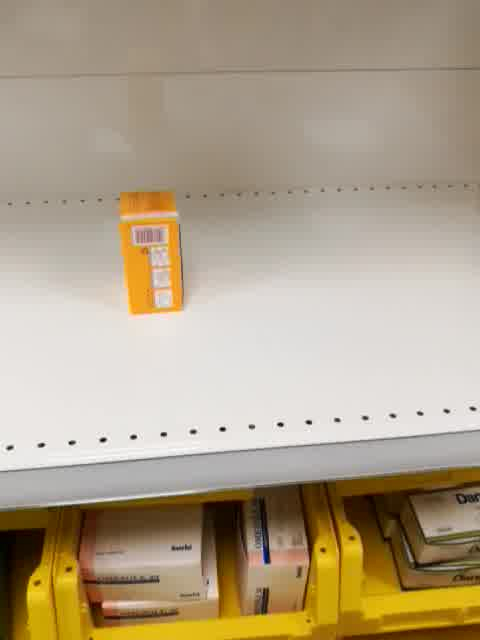jasminetea: (116, 190, 185, 316)
